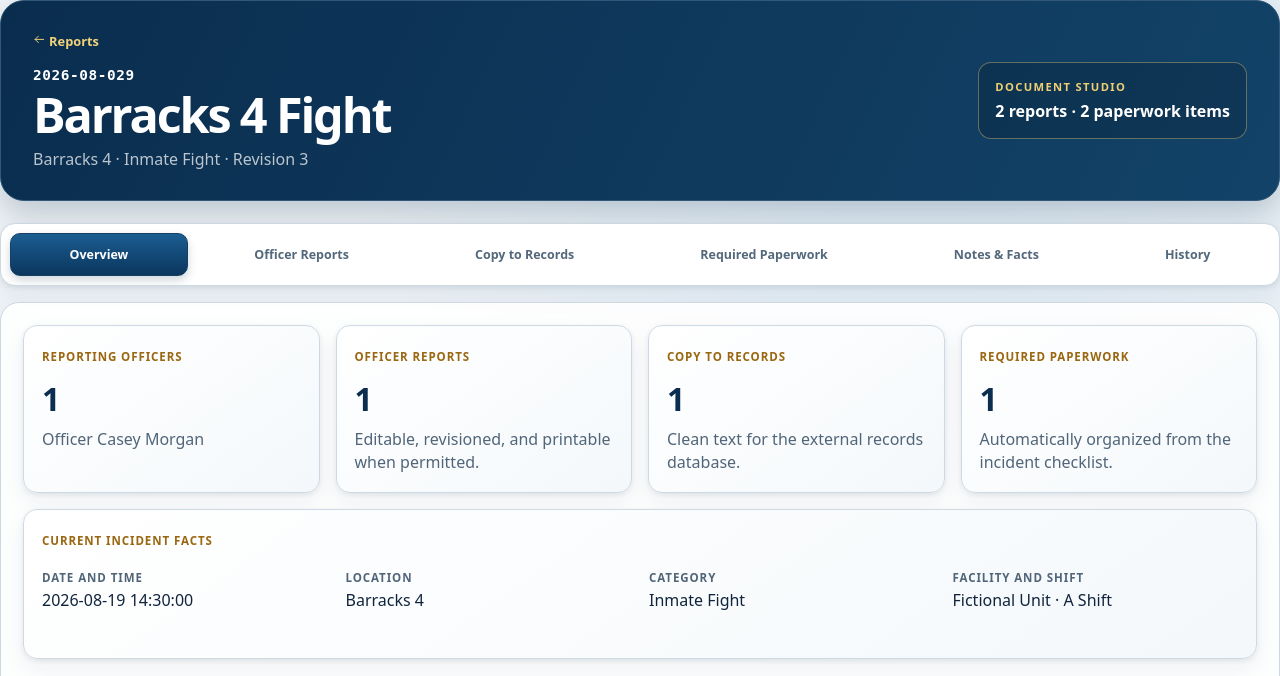
Scenario: Incident Document Studio › shows printable populated forms and physical-only guidance separately
The width and height of the screenshot is (1280, 676).
Check: the text "2026-08-029" is shown, box [33, 67, 135, 83]
Click the tab "Required Paperwork" at (764, 254), box [641, 233, 887, 276]
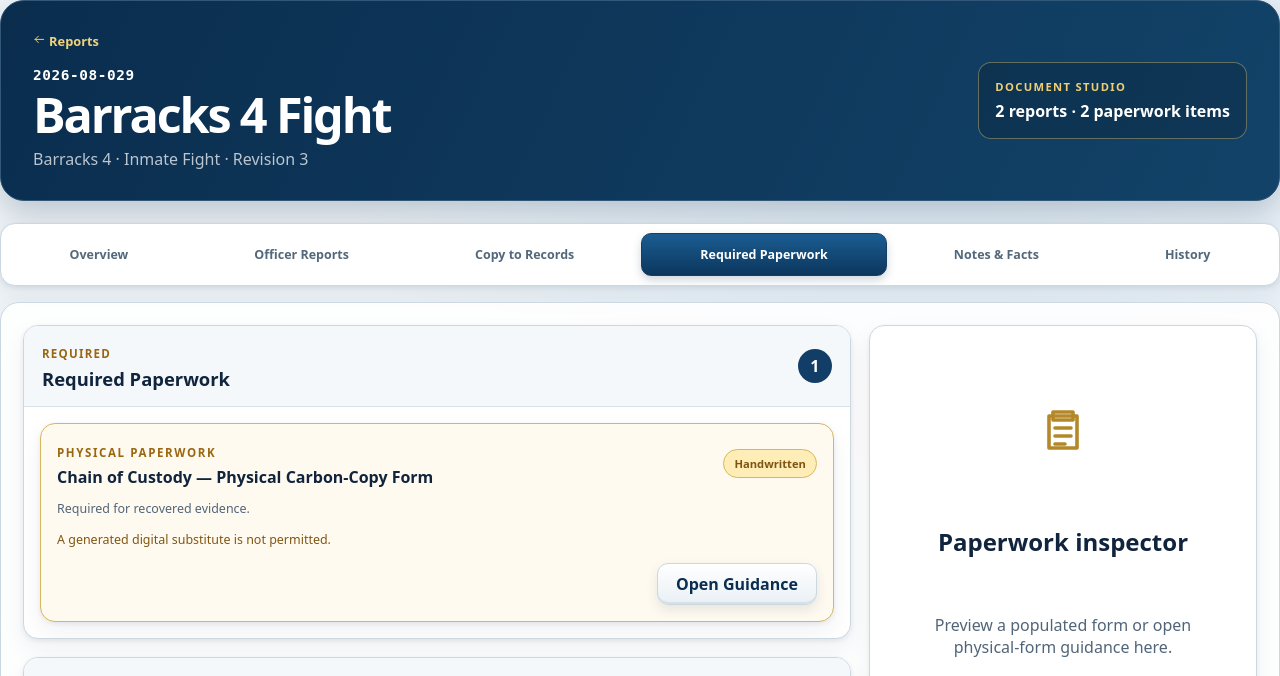
Click the button with aria-label "open physical chain of custody guidance" at (737, 584), box [657, 563, 817, 605]
(page scrolled)
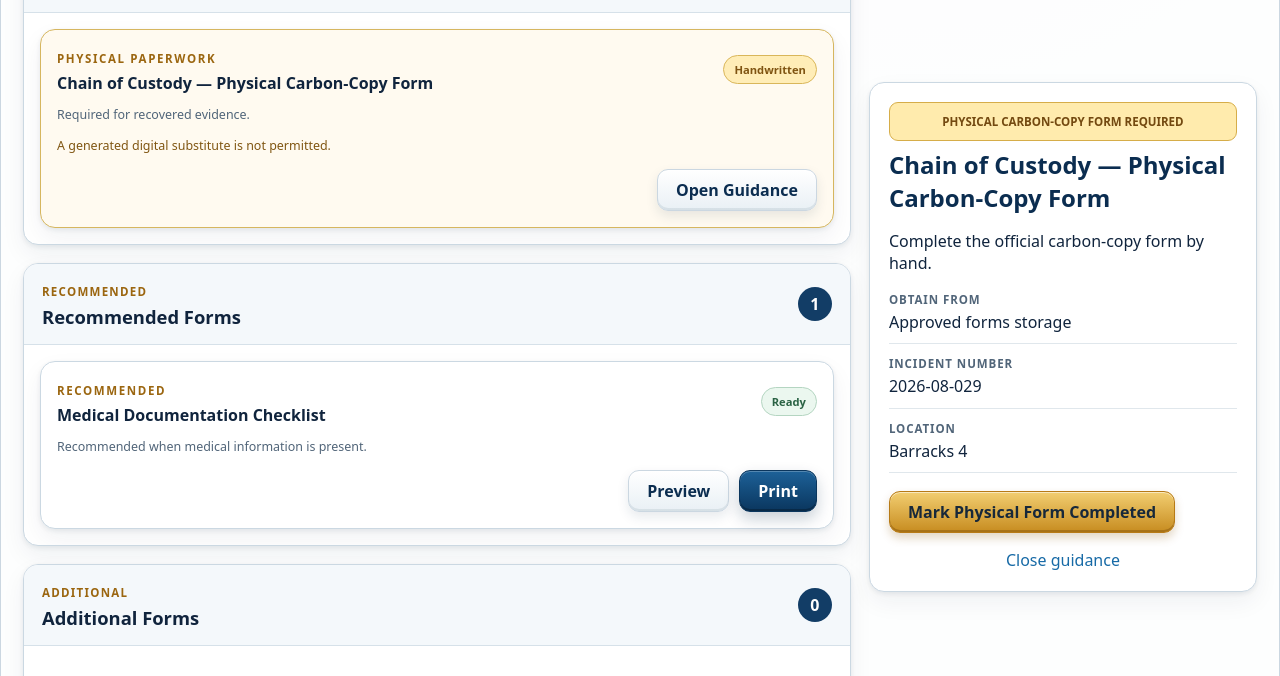
Check: the text "PHYSICAL CARBON-COPY FORM REQUIRED" is shown, box [889, 102, 1237, 141]
Check: the text "Approved forms storage" is shown, box [889, 311, 1071, 333]
Check: the button "Mark Physical Form Completed" is shown, box [889, 491, 1175, 533]
